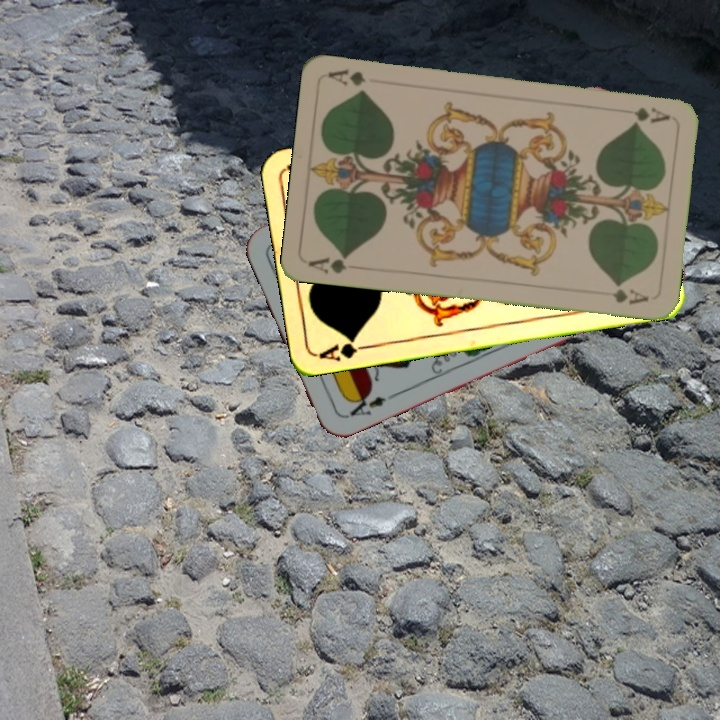EA: (342, 388, 398, 421)
GA: (315, 333, 374, 363), (614, 103, 673, 125), (305, 250, 352, 276)
